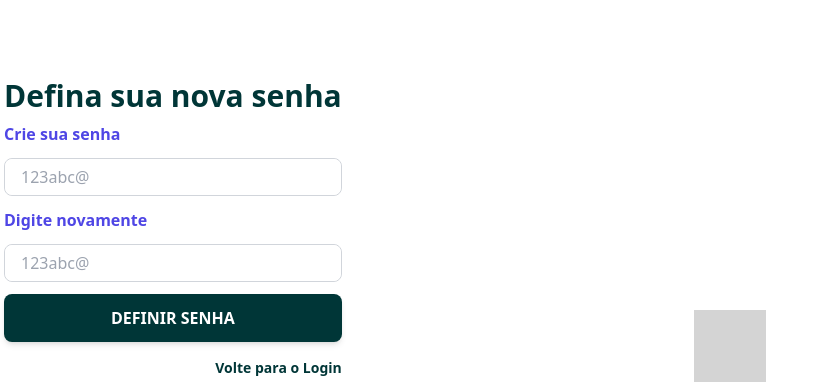
Scenario: ResetPassword Component › mostra mensagem de sucesso e redireciona após redefinir senha
In the 1st password field with placeholder "123abc@": (173, 177) top-left (5, 159), bottom-right (341, 195), type "123456"
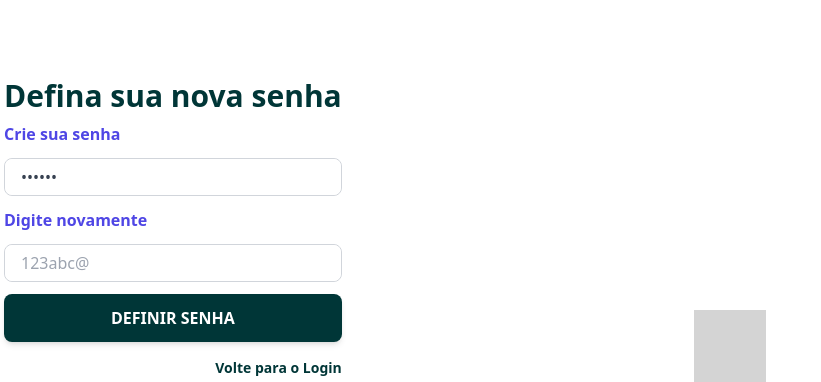
In the password field with placeholder "123abc@": (173, 263) top-left (5, 245), bottom-right (341, 281), type "123456"
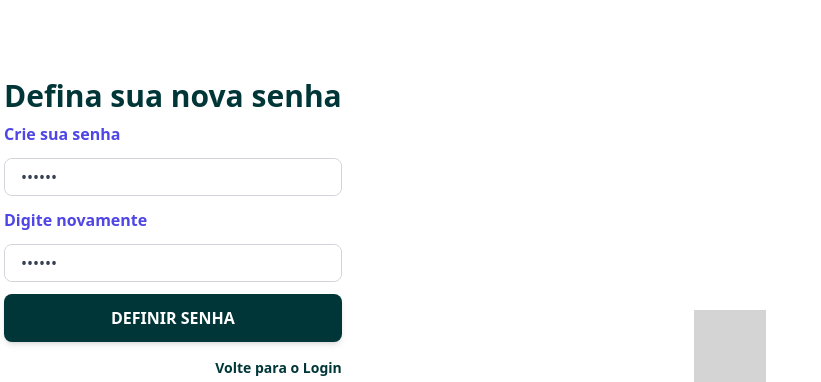
Click the button "DEFINIR SENHA": (173, 318) top-left (4, 294), bottom-right (342, 342)
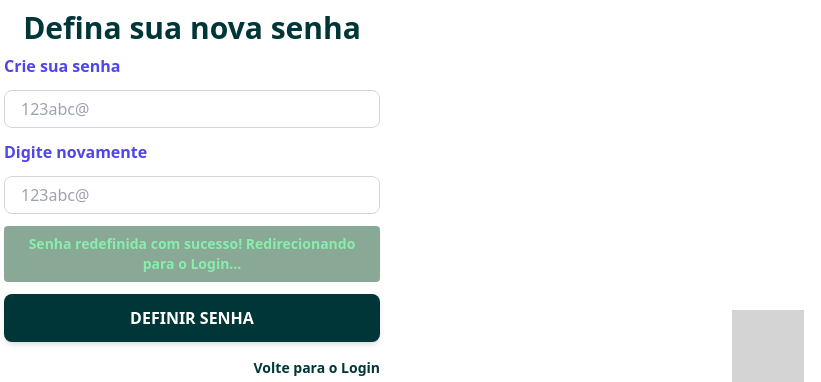
Now the text "Senha redefinida com sucesso! Redirecionando para o Login..." is shown, box top-left (4, 226), bottom-right (380, 282)
